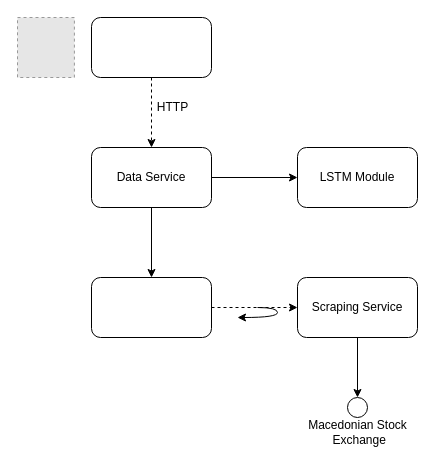
Image size: 435x470. Some labels were removed from this diagram. Grey dashed boxes stand in for pictures. Each missing label, with the box of its shape:
CSV storage: (90, 276, 212, 338)
GUI: (90, 16, 212, 78)
